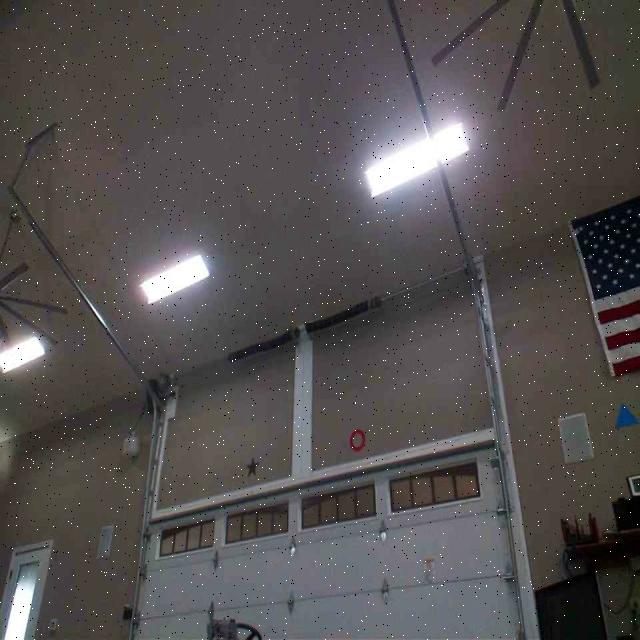ring_red: (349, 426, 365, 451)
star_black: (245, 458, 259, 476)
triangle_blue: (614, 403, 639, 431)
